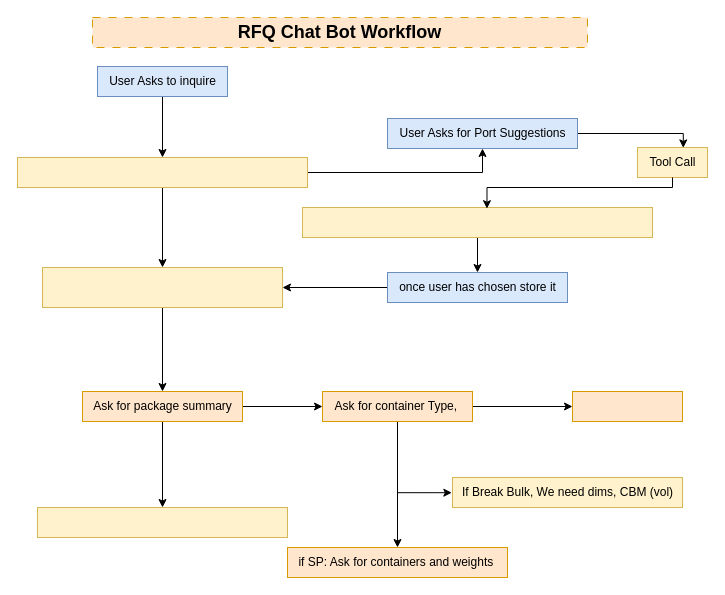
The diagram is 725 pixels wide and 595 high, and some of its shapes have lost their labels. The shapes that lost their labels are listed below. From the top down, each one's box as (x1, y1, x2, y2) in pixels, then its label:
(16, 156, 308, 188): Ask what for pol,pod,delivery and pickup address.
(302, 206, 652, 238): if api returns some ports, give them to user and ask to choose
(42, 266, 282, 308): If all details are provided, ask for company, name email and phone
(572, 390, 682, 422): if GP: Ask weight
(36, 506, 288, 538): Ask for company,name, emial and contact
